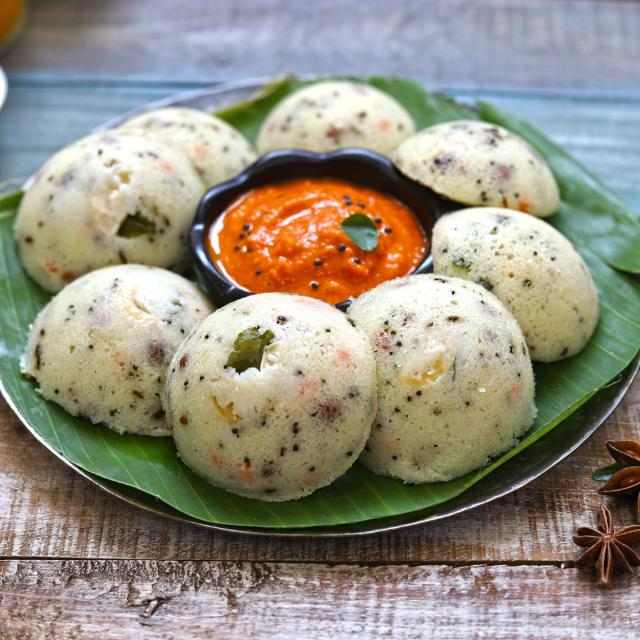rave idli: (162, 283, 382, 509), (347, 267, 545, 490), (18, 262, 212, 446), (423, 198, 607, 376), (9, 123, 203, 275), (404, 109, 576, 220), (251, 75, 422, 159)
